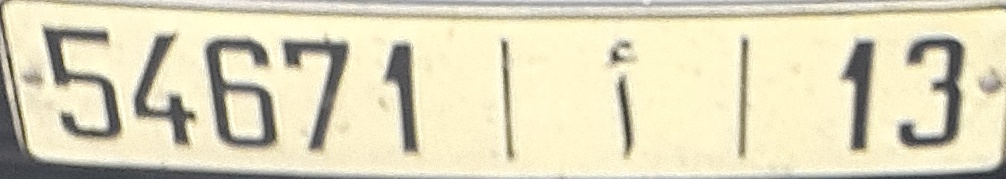1: (376, 32, 433, 161), (835, 27, 878, 158)
3: (893, 30, 970, 152)
4: (128, 26, 202, 158)
5: (39, 20, 128, 147)
6: (203, 36, 282, 155)
7: (280, 31, 354, 159)
a: (598, 36, 649, 165)
